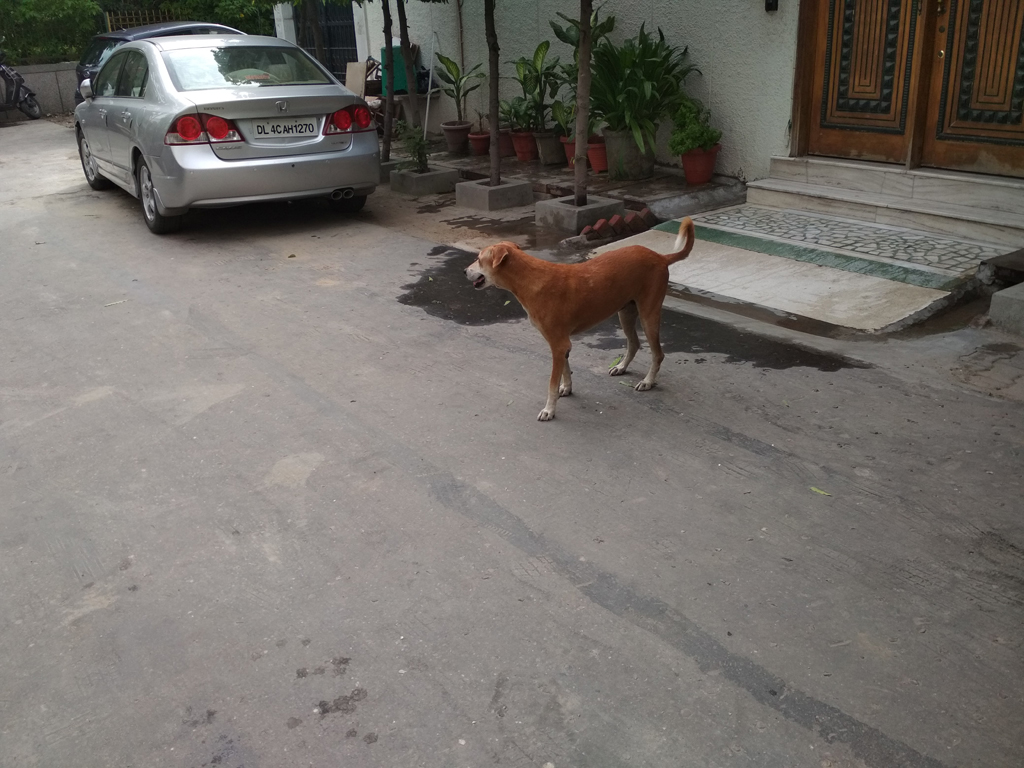dog: (463, 216, 696, 421)
